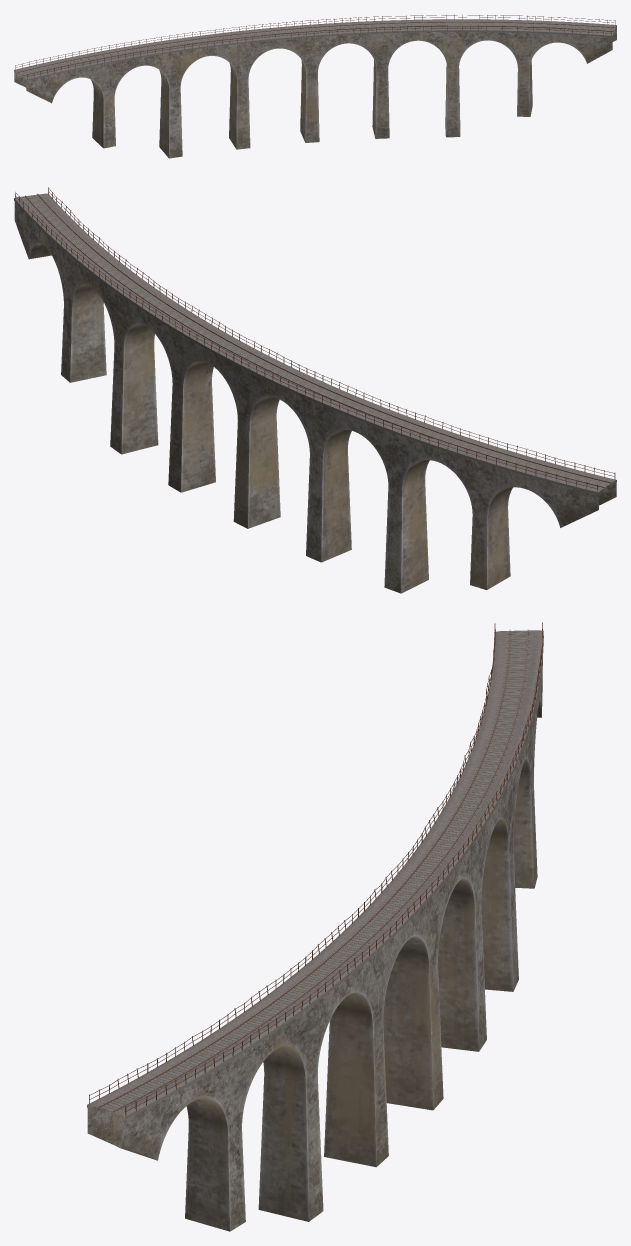
File: rail.glb
3 renders of one model, top to bottom at view 1: azimuth 30°, elevation 25°; view 2: azimuth 150°, elevation 25°; view 3: azimuth 270°, elevation 25°, orthographic. The views are drawn at different scales.
Visible parts, largest first — view 1: StoneRailRoadBridge_0; view 2: StoneRailRoadBridge_0; view 3: StoneRailRoadBridge_0.
Part boxes in pixels (bbox=[...]): StoneRailRoadBridge_0: bbox=[14, 14, 616, 158]; StoneRailRoadBridge_0: bbox=[14, 187, 616, 593]; StoneRailRoadBridge_0: bbox=[87, 622, 543, 1231].
Size of the model in its own units: 96.99 by 20.7 by 38.52.
1 material, 1 textured.
